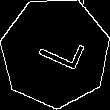L_NW: (26, 28, 84, 77)
